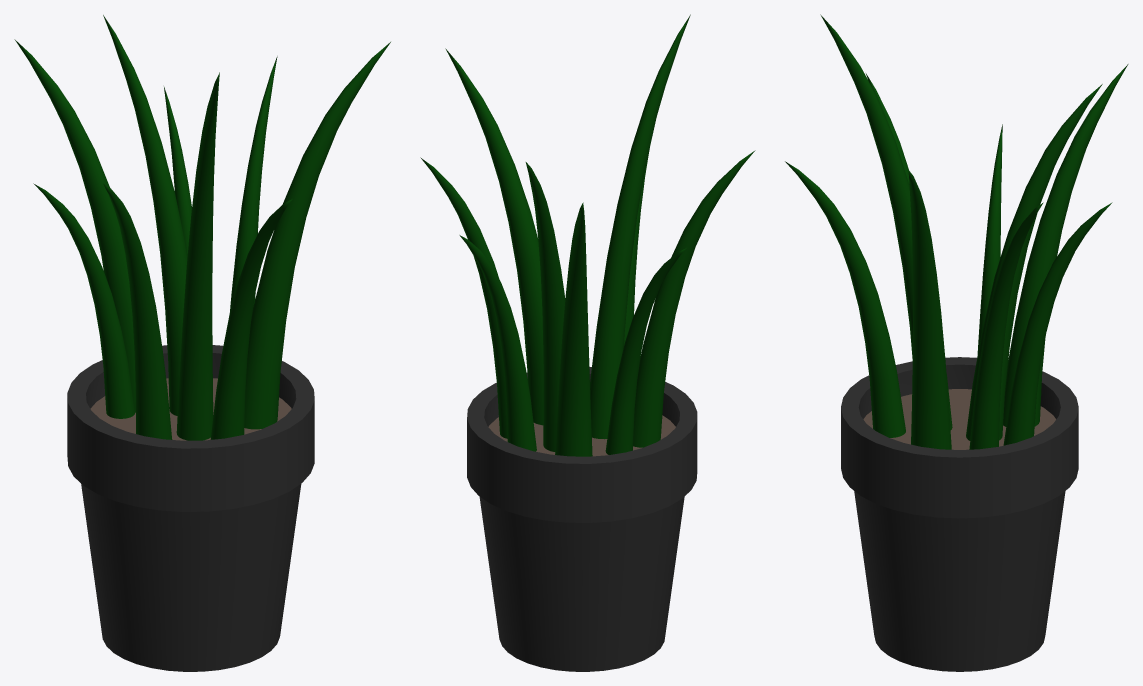
File: Plante4_3.fbx
The picture shows the model from 3 angles, left to right: view 1: azimuth 30°, elevation 25°; view 2: azimuth 150°, elevation 25°; view 3: azimuth 270°, elevation 25°; orthographic projection. The views are drawn at different scales.
Parts seen in each view (by area): view 1: pCylinder725, pCone27, pCone28, pCone25, pCone21, pCone22, pCone20, pCone23, pCone24, pCone26, pCylinder724; view 2: pCylinder725, pCone28, pCone27, pCone21, pCone22, pCone25, pCone26, pCone23, pCone24, pCylinder724, pCone20; view 3: pCylinder725, pCone27, pCone20, pCone22, pCone26, pCone24, pCone28, pCone25, pCone23, pCylinder724.
Boxes of the visible parts, x1,y1,x2,y2 form: pCylinder725: (67,345,314,671); pCone27: (244,42,390,429); pCone28: (176,72,219,440); pCone25: (103,15,187,415); pCone21: (103,183,172,439); pCone22: (14,39,135,412); pCone20: (210,199,292,439); pCone23: (33,183,135,418); pCone24: (230,56,277,311); pCone26: (164,87,191,255); pCylinder724: (90,378,291,440); pCylinder725: (467,366,697,671); pCone28: (590,14,690,439); pCone27: (445,48,543,425); pCone21: (633,150,755,447); pCone22: (555,202,592,456); pCone25: (525,162,565,451); pCone26: (459,235,536,451); pCone23: (605,247,687,454); pCone24: (420,157,507,438); pCylinder724: (488,415,675,456); pCone20: (624,149,649,345); pCylinder725: (841,357,1078,671); pCone27: (908,170,951,449); pCone20: (785,161,905,437); pCone22: (1003,64,1128,426); pCone26: (1003,202,1112,445); pCone24: (969,202,1043,449); pCone28: (820,14,952,429); pCone25: (966,84,1102,440); pCone23: (977,124,1002,356); pCylinder724: (863,389,1055,449).
Size of the model in its own units: 16.25 by 31.25 by 16.23.
